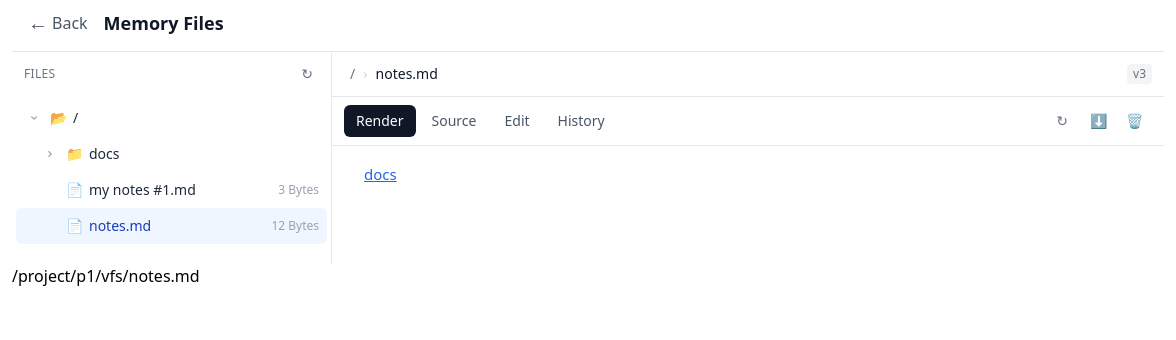
Test case: VfsManagerView › links in rendered Markdown › open a folder
Click the link "docs".
click(380, 174)  # box [364, 164, 397, 184]
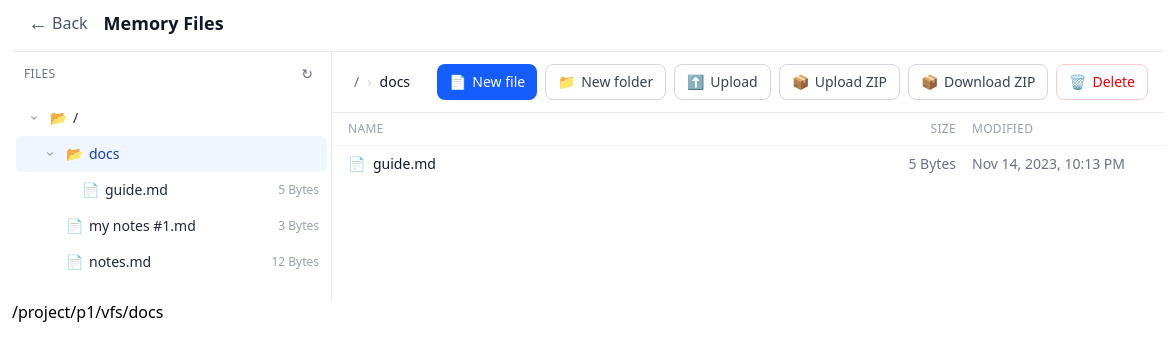
Check: the list named "Folder contents" is shown, box [332, 146, 1164, 182]
Check: the text with test id "location" reads "/project/p1/vfs/docs", box [12, 301, 163, 323]
